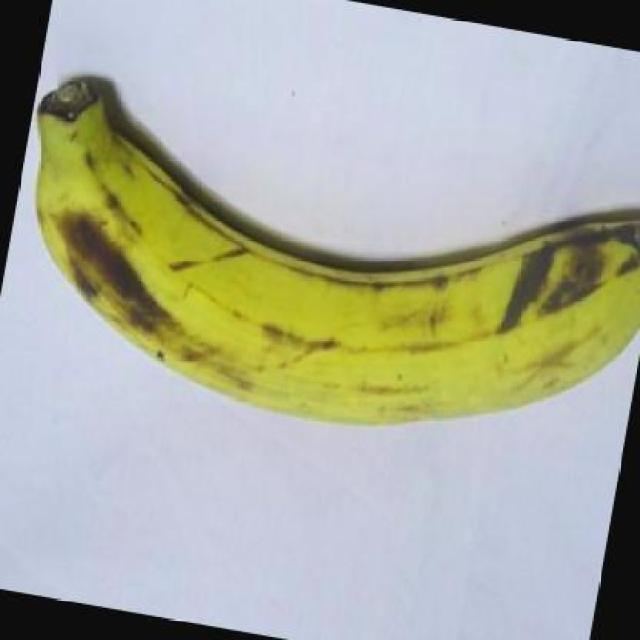Overripe: (20, 57, 640, 460)
